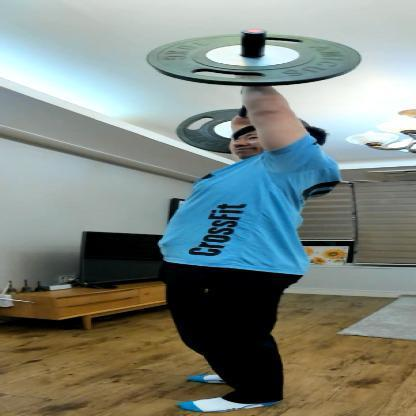barbell: (148, 27, 363, 154)
